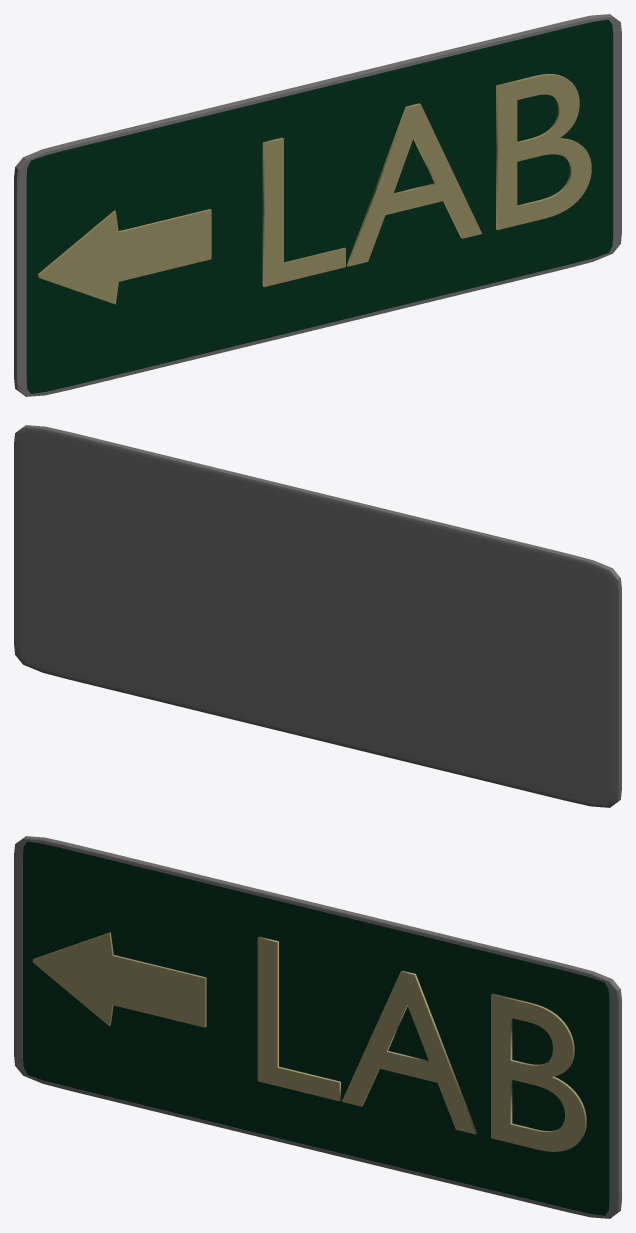
Rendered from lab to the left.fbx.
3 renders of one model, top to bottom at view 1: azimuth 30°, elevation 25°; view 2: azimuth 150°, elevation 25°; view 3: azimuth 330°, elevation 25°, orthographic.
Visible parts, largest first — view 1: Cube, Text, Cube.003; view 2: Cube; view 3: Cube, Text, Cube.003.
Boxes of the visible parts, <box> form: Cube: <box>14,14,621,396</box>; Text: <box>262,74,591,286</box>; Cube.003: <box>37,209,211,304</box>; Cube: <box>14,425,621,807</box>; Cube: <box>14,836,621,1218</box>; Text: <box>257,936,586,1151</box>; Cube.003: <box>32,932,206,1027</box>.
Bounding box in the file's own units: 988 × 382 × 14.14.
